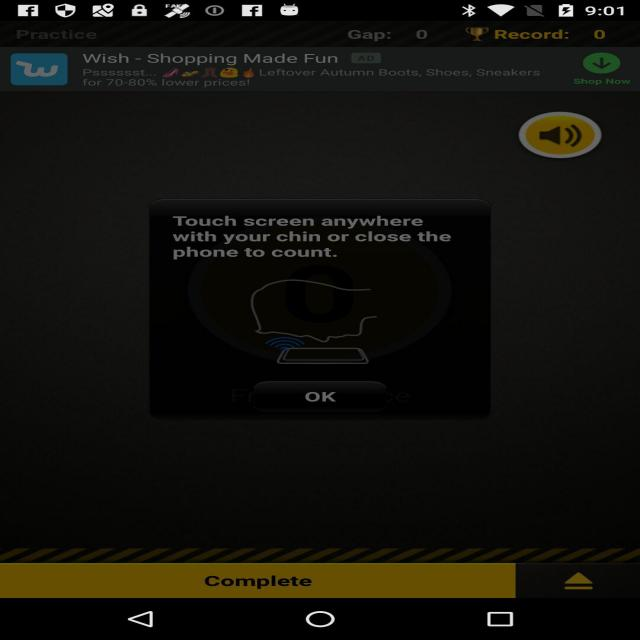button: (26, 545, 528, 606)
